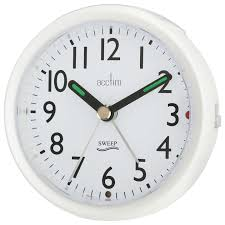alarm_clock: (7, 4, 220, 220)
